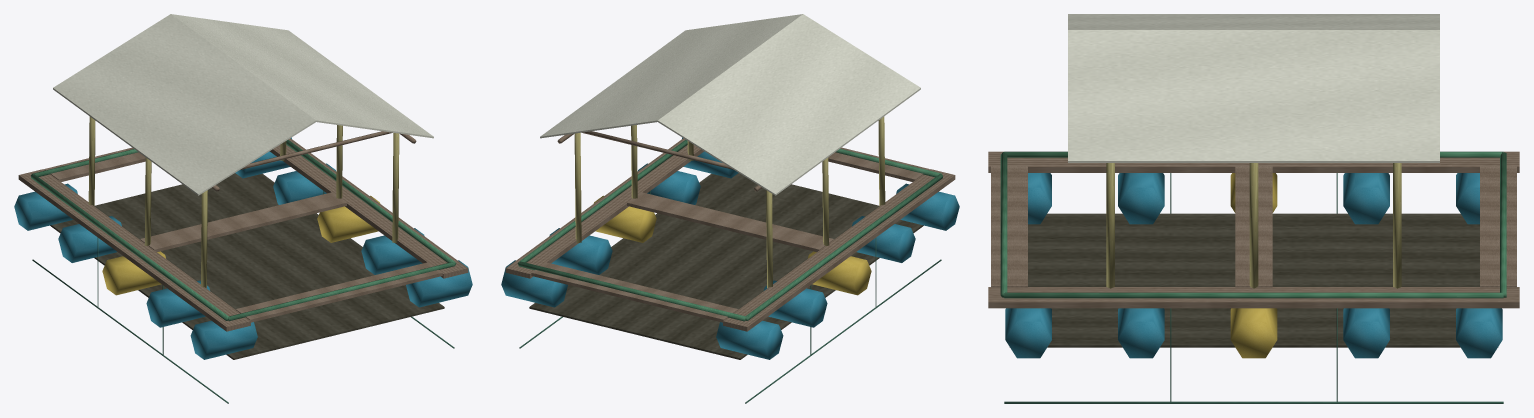
Rendered from bung-raft-1-white-mid.glb.
The picture shows the model from 3 angles, left to right: view 1: azimuth 30°, elevation 25°; view 2: azimuth 150°, elevation 25°; view 3: azimuth 270°, elevation 25°; orthographic projection. The views are drawn at different scales.
Parts seen in each view (by area): view 1: bung-raft-1-white-mid; view 2: bung-raft-1-white-mid; view 3: bung-raft-1-white-mid.
Part boxes in pixels (x1,y1,x2,y2): bung-raft-1-white-mid: (14, 14, 472, 403); bung-raft-1-white-mid: (501, 14, 959, 403); bung-raft-1-white-mid: (988, 14, 1519, 403).
Bounding box in the file's own units: 4.84 × 4.17 × 6.6.
Materials: 1 (1 with a texture image).
